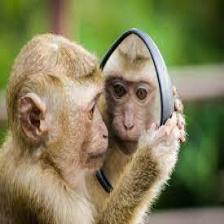monkey: (12, 30, 189, 224)
